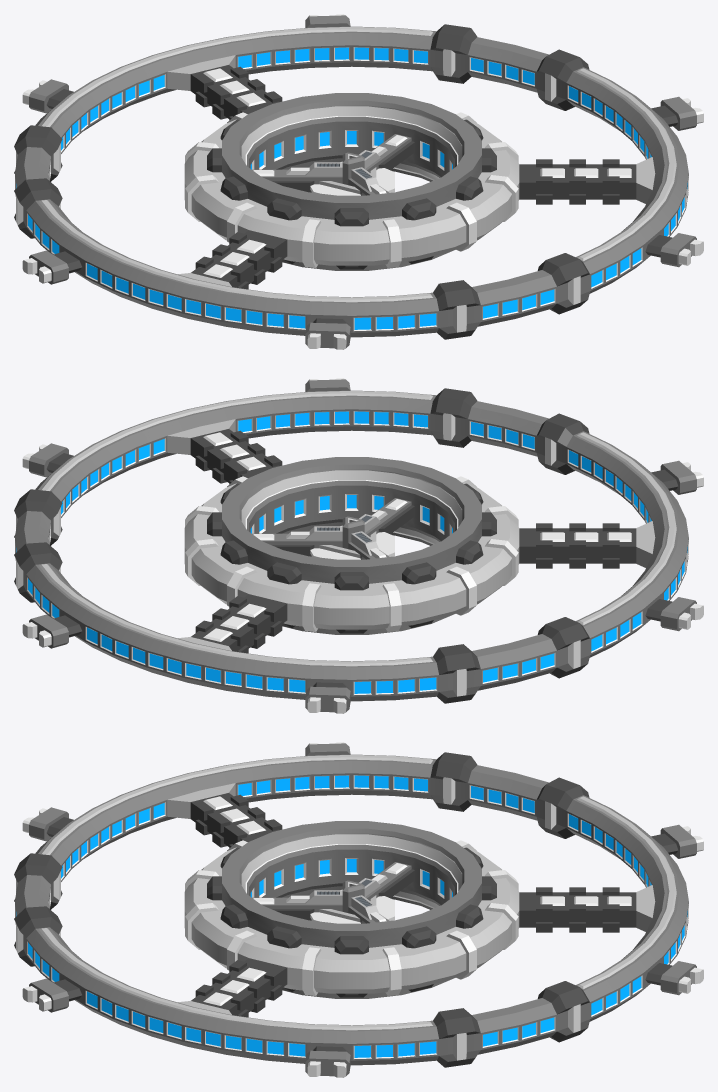
File: Station01.fbx
The picture shows the model from 3 angles, top to bottom: view 1: azimuth 30°, elevation 25°; view 2: azimuth 150°, elevation 25°; view 3: azimuth 270°, elevation 25°; orthographic projection.
Visible parts, largest first — view 1: Mesh_HD; view 2: Mesh_HD; view 3: Mesh_HD.
Part boxes in pixels (box(x1,y1,x2,y2)): Mesh_HD: box(14, 14, 703, 349); Mesh_HD: box(14, 378, 703, 713); Mesh_HD: box(14, 742, 703, 1077).
Bounding box in the file's own units: 2048 × 200 × 1842.
